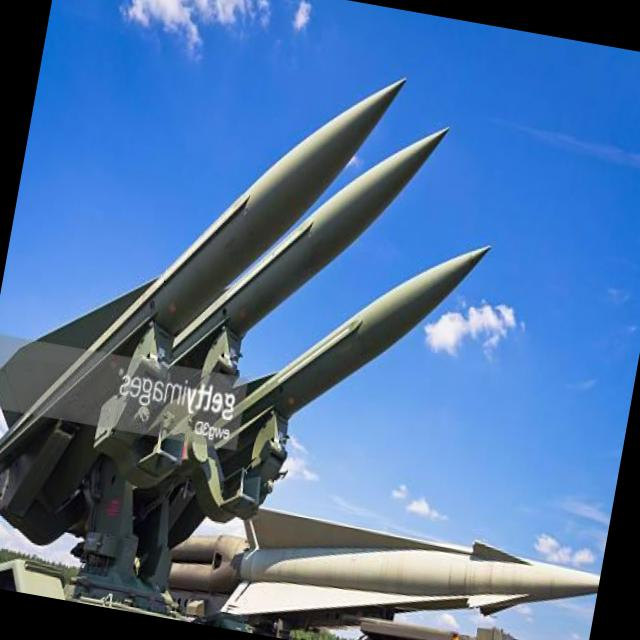rocket: (3, 11, 523, 477)
